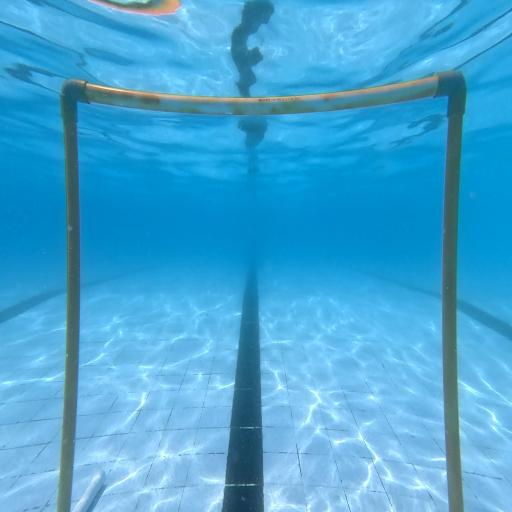gate: (60, 70, 466, 512)
